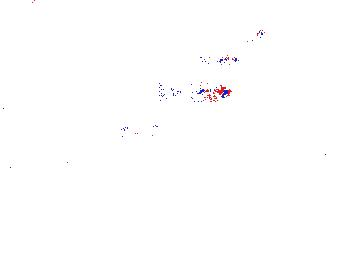X-ray fish: (232, 186, 262, 217), (297, 135, 332, 159)
red belly glassfish: (172, 81, 231, 100), (195, 53, 237, 69), (229, 27, 266, 43)
